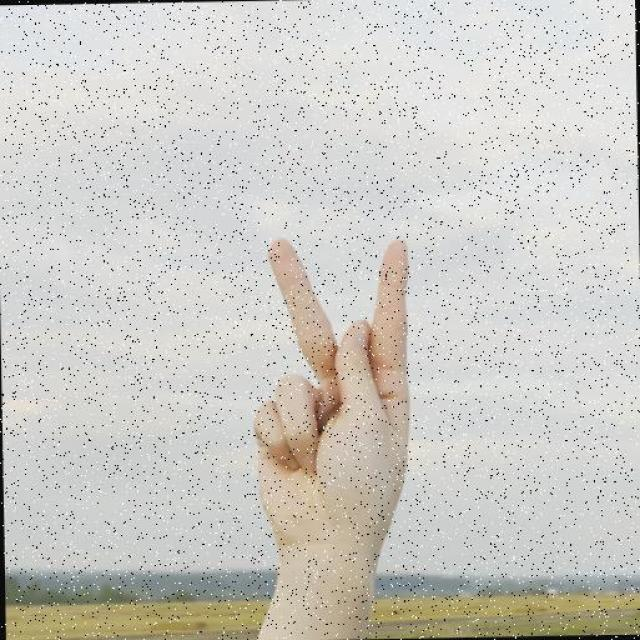K: (244, 232, 417, 586)
